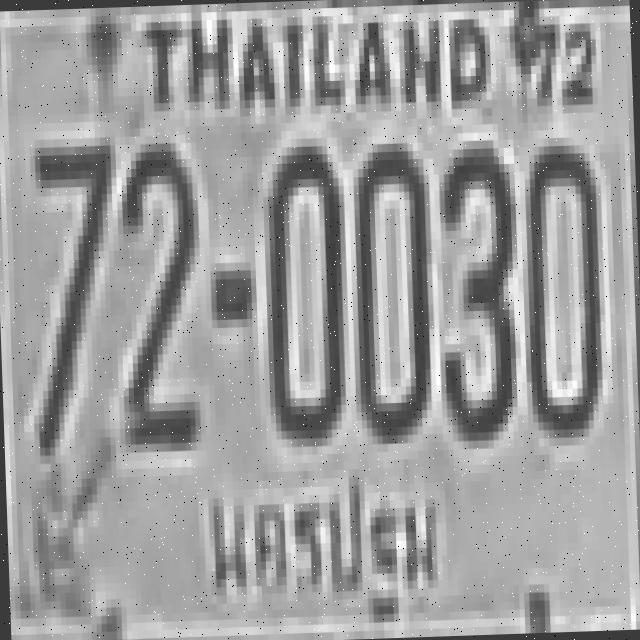0: (256, 137, 347, 439), (518, 136, 604, 430), (347, 142, 432, 436)
2: (110, 133, 200, 444)
3: (430, 139, 516, 433)
7: (27, 136, 118, 448)
NakhonPathom: (196, 462, 456, 636)
